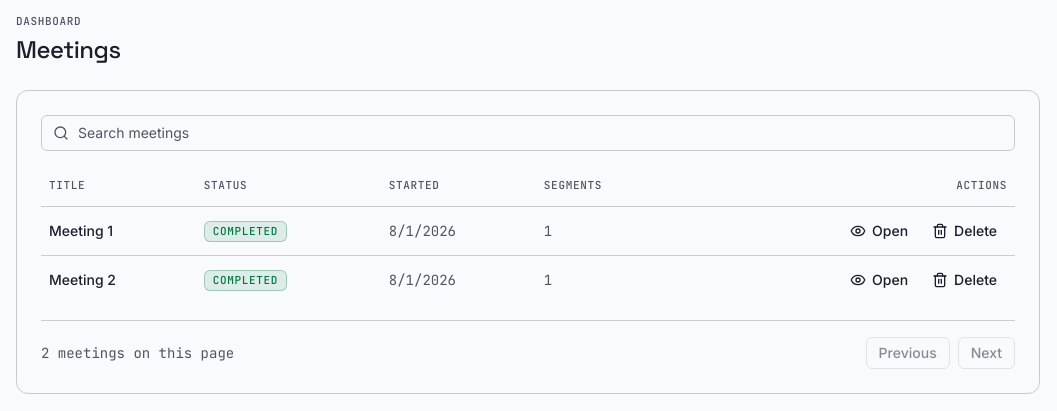
it: Meetings dashboard › filters the fetched page by title
Expected: the text "Meeting 1" is shown, [41,206,196,256]
In the field with placeholder "Search meetings": (528, 132) [41,114,1015,150], type "Meeting 2"
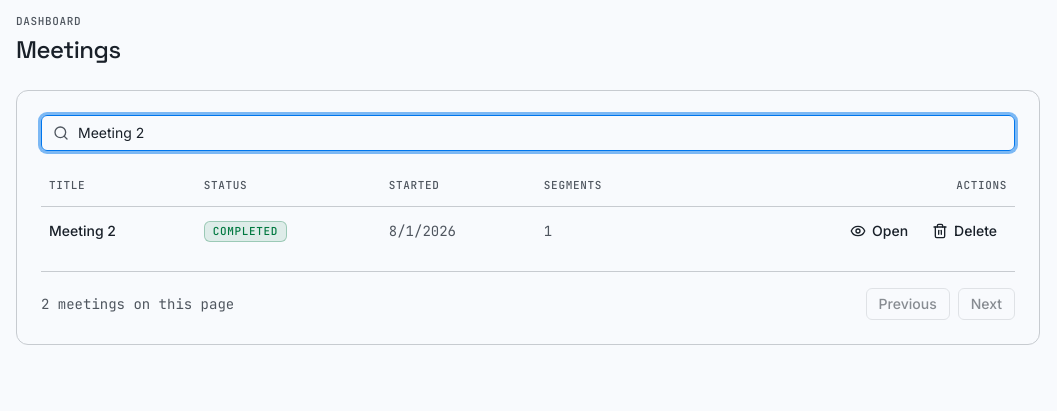
Expected: the text "Meeting 2" is shown, [41,206,196,255]
Expected: the text "Meeting 1" is gone
